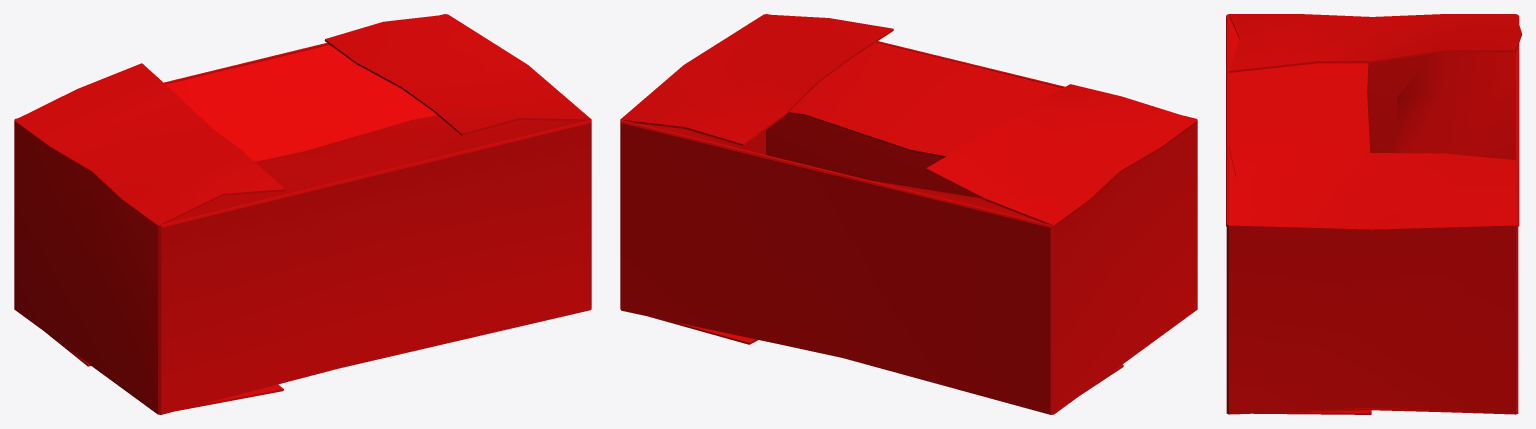
The model's file is cardboardBox2.fbx.
The picture shows the model from 3 angles, left to right: view 1: azimuth 30°, elevation 25°; view 2: azimuth 150°, elevation 25°; view 3: azimuth 270°, elevation 25°; orthographic projection.
Parts seen in each view (by area): view 1: Cardboard_Box_2; view 2: Cardboard_Box_2; view 3: Cardboard_Box_2.
Part boxes in pixels (left/top/right/bottom): Cardboard_Box_2: left=14, top=14, right=591, bottom=414; Cardboard_Box_2: left=620, top=14, right=1197, bottom=414; Cardboard_Box_2: left=1226, top=14, right=1521, bottom=414.
Bounding box in the file's own units: 61.15 × 30.32 × 35.47.
